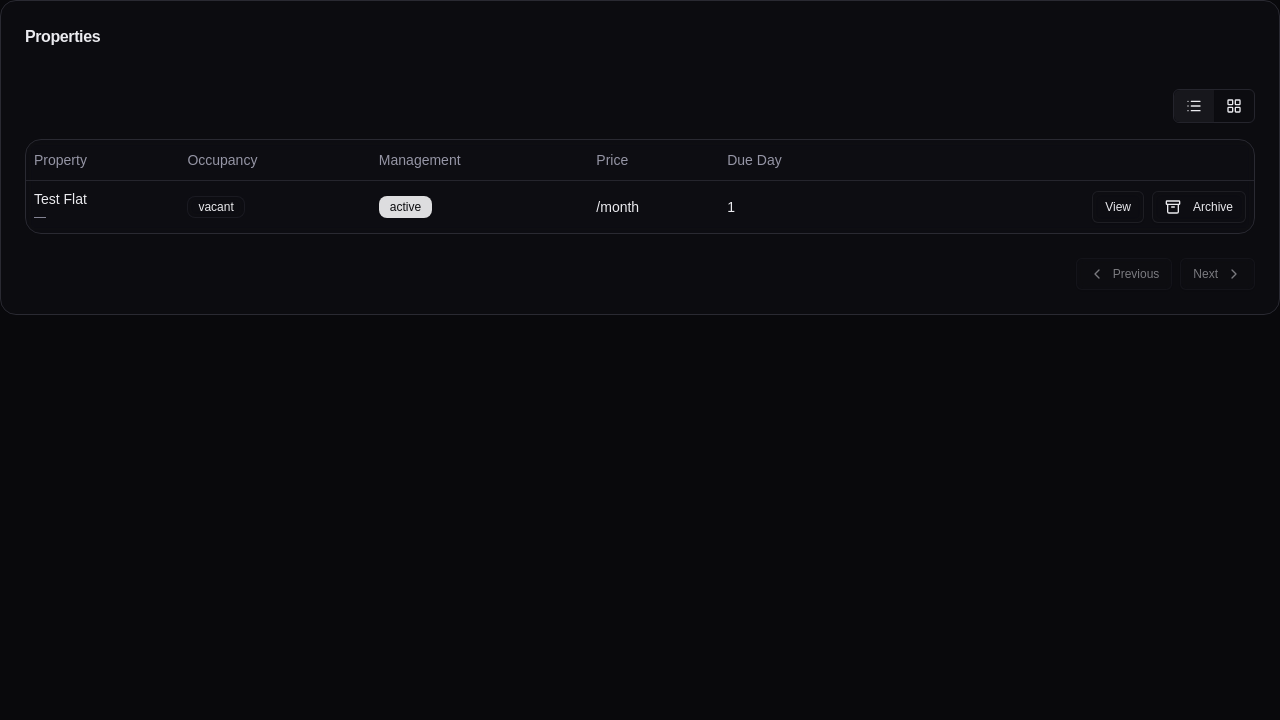
Test: PmPropertiesPage archive › keeps the archive dialog open with the backend message when the PATCH fails
The image size is (1280, 720).
Click the button with aria-label "Archive Test Flat": click(1199, 206) [1152, 190, 1246, 222]
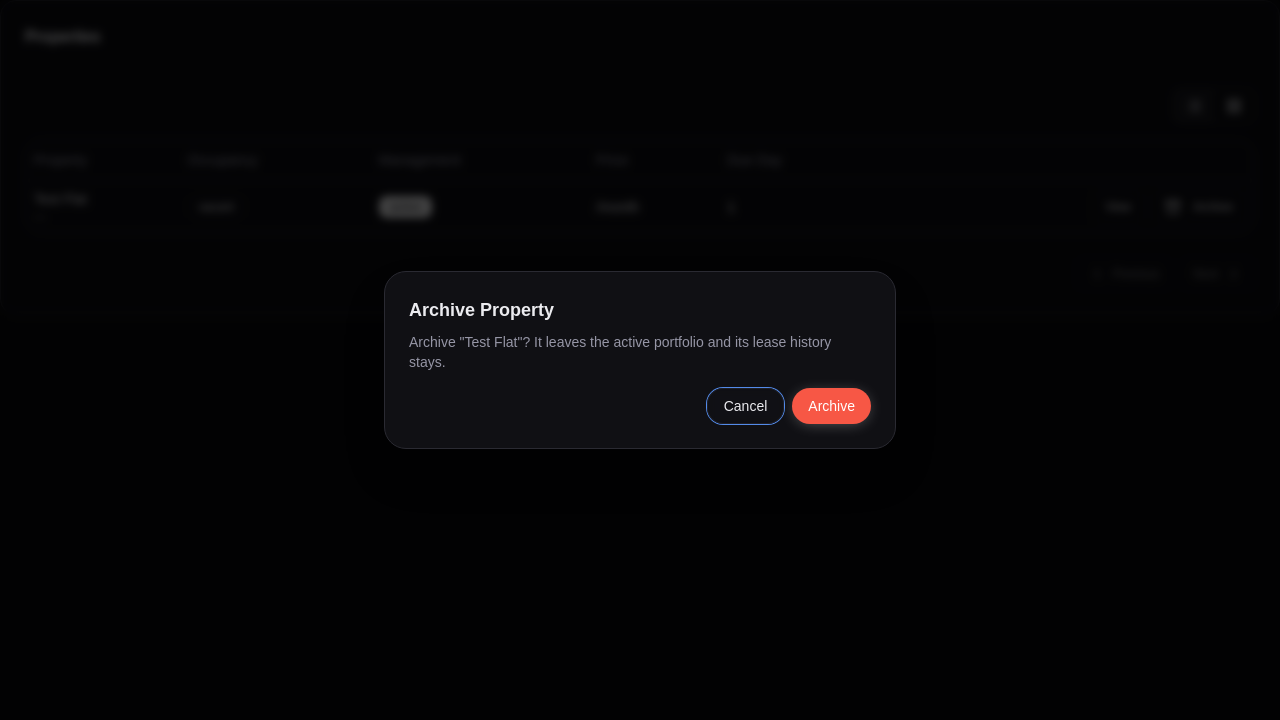
Click the button "Archive": click(832, 406) [792, 388, 871, 424]
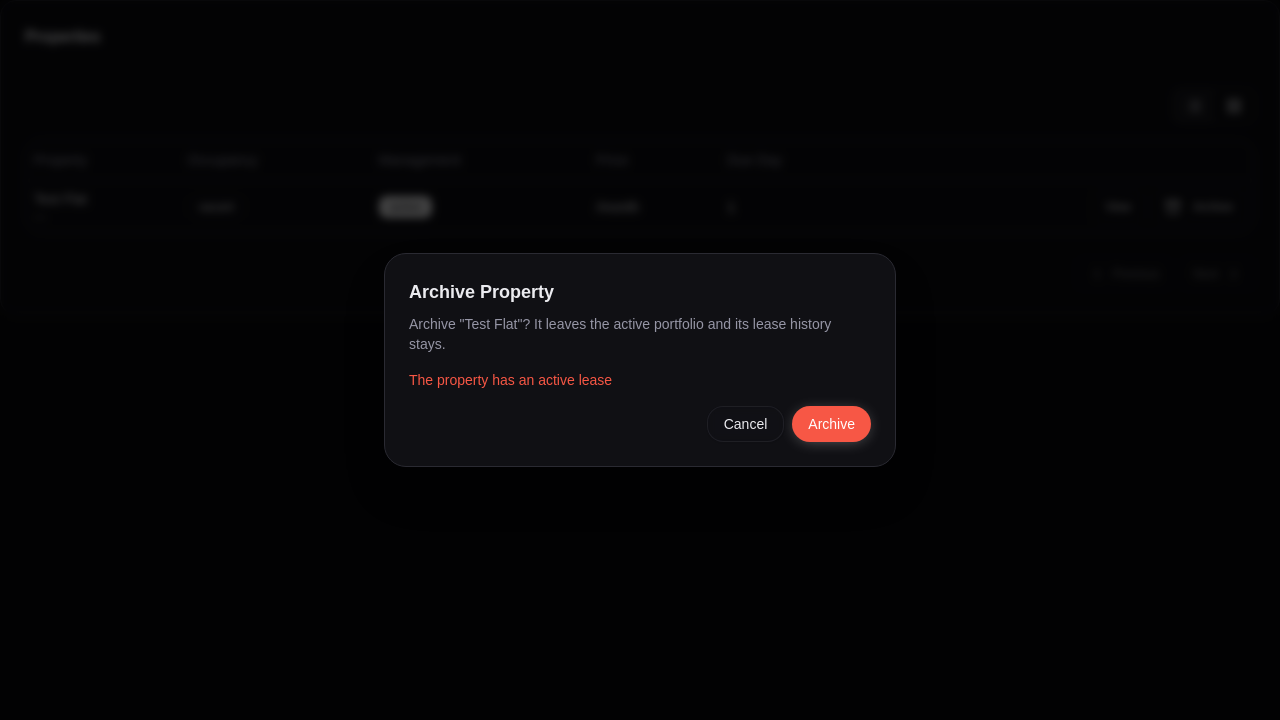
Expected: the dialog is shown, [384, 253, 896, 467]
Expected: the message reads "The property has an active lease", [409, 372, 612, 388]
